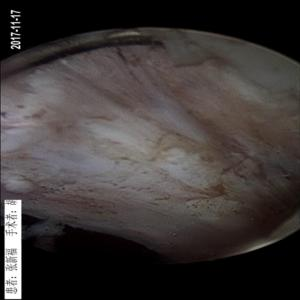film: (43, 51, 277, 234)
